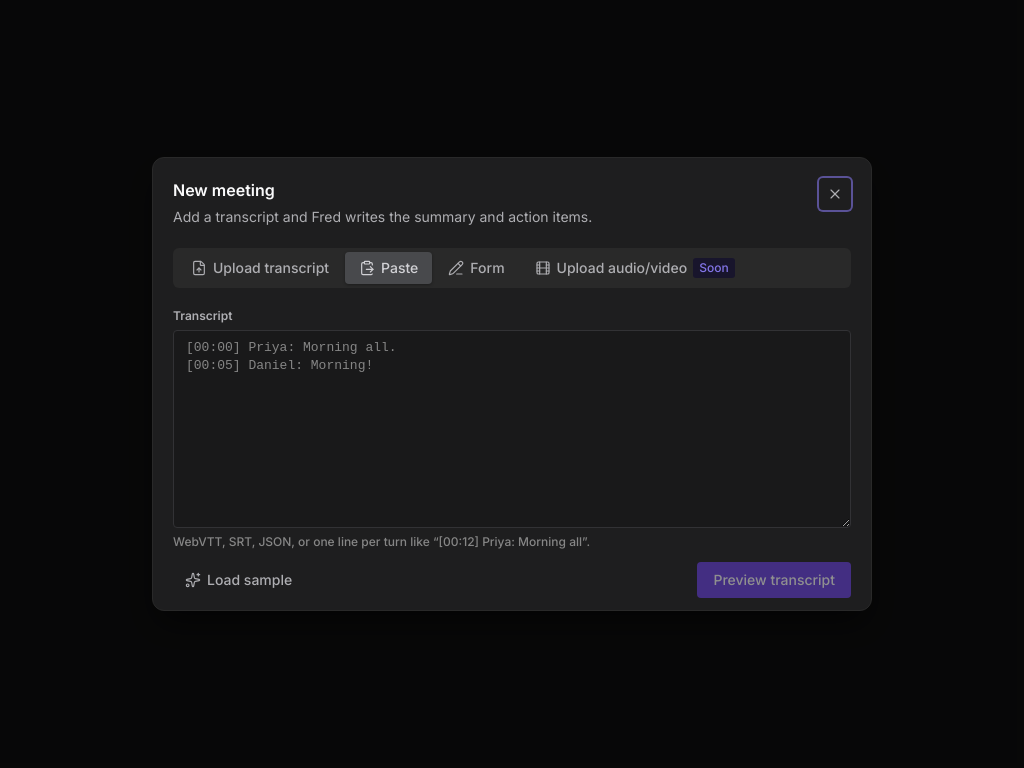
it: CreateMeetingModal › opens on the requested tab and switches tabs
Expected: the text box labelled "Transcript" is shown, 173,330 -> 851,528
Click the tab "Form": coordinates (476, 268) 434,252 -> 518,284
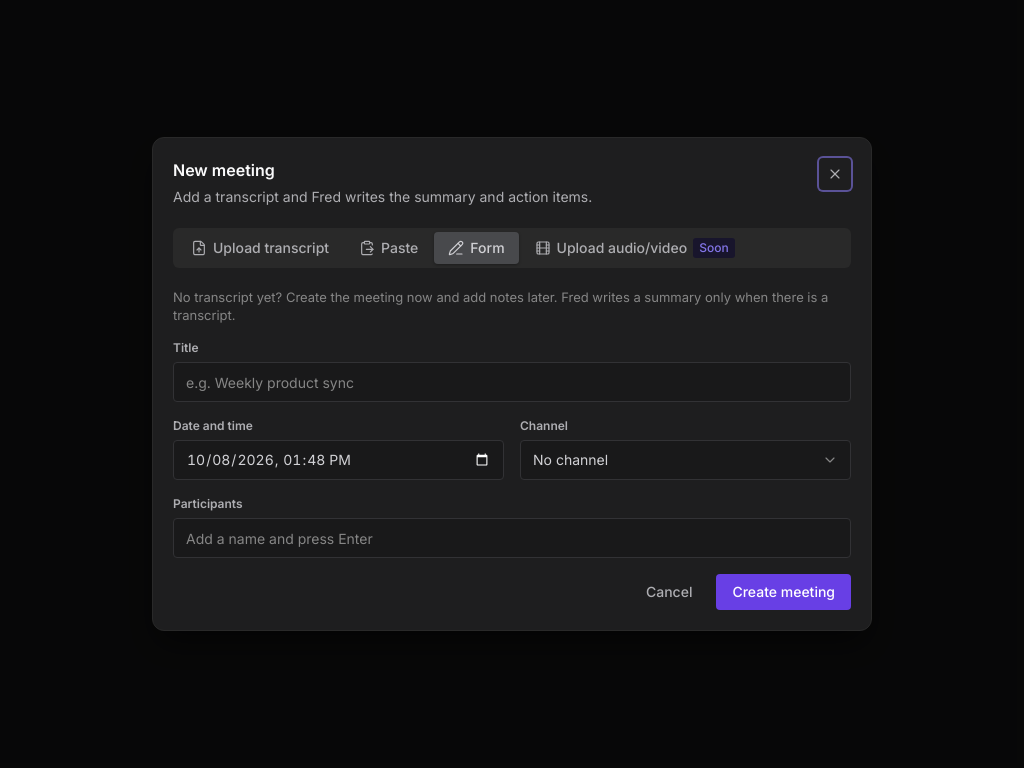
Expected: the field labelled "Title" is shown, 173,362 -> 851,402
Click the tab "Upload audio/video Soon": coordinates (635, 248) 521,232 -> 749,264
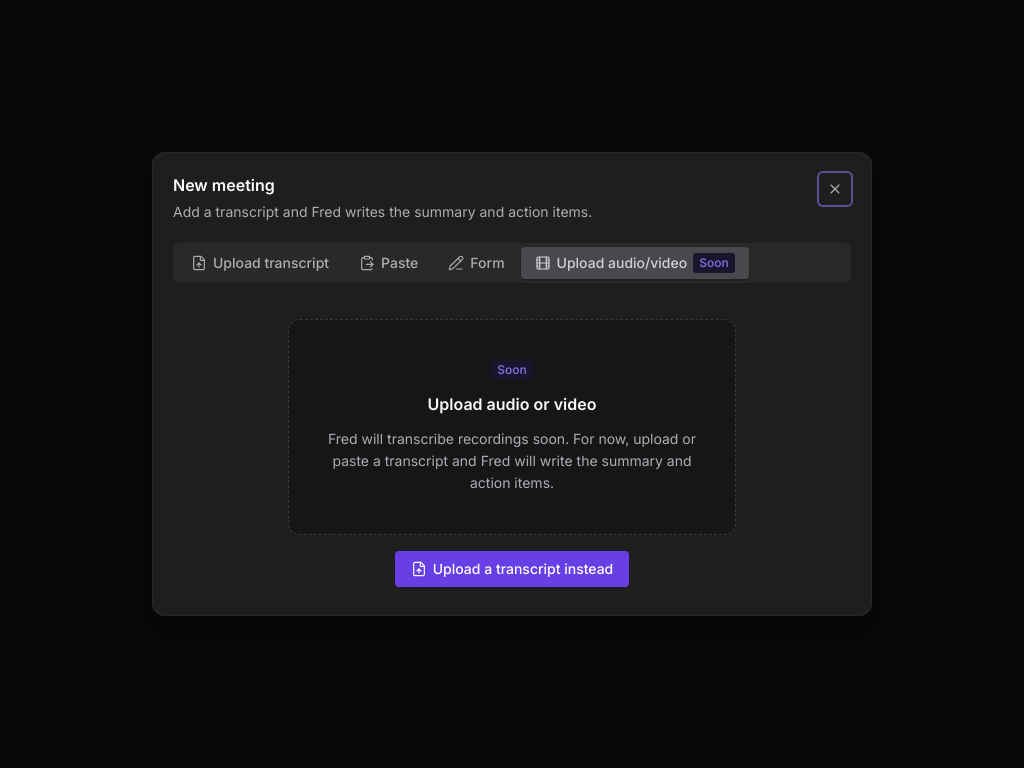
Click the button "Upload a transcript instead": coordinates (512, 569) 395,551 -> 629,587
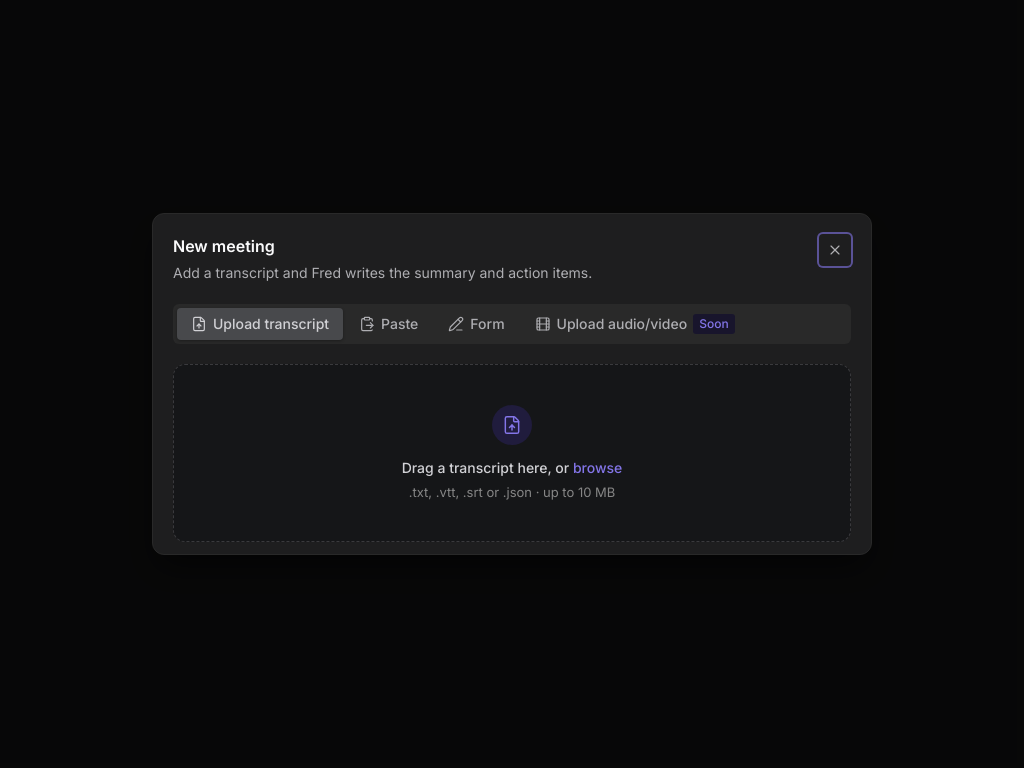
Expected: the file field named "Choose a transcript file" is shown, 173,364 -> 851,542
